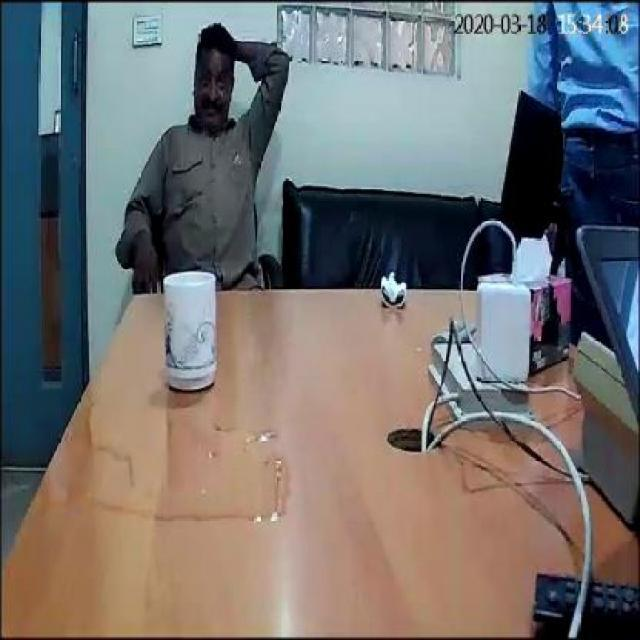spill: (94, 408, 294, 527)
